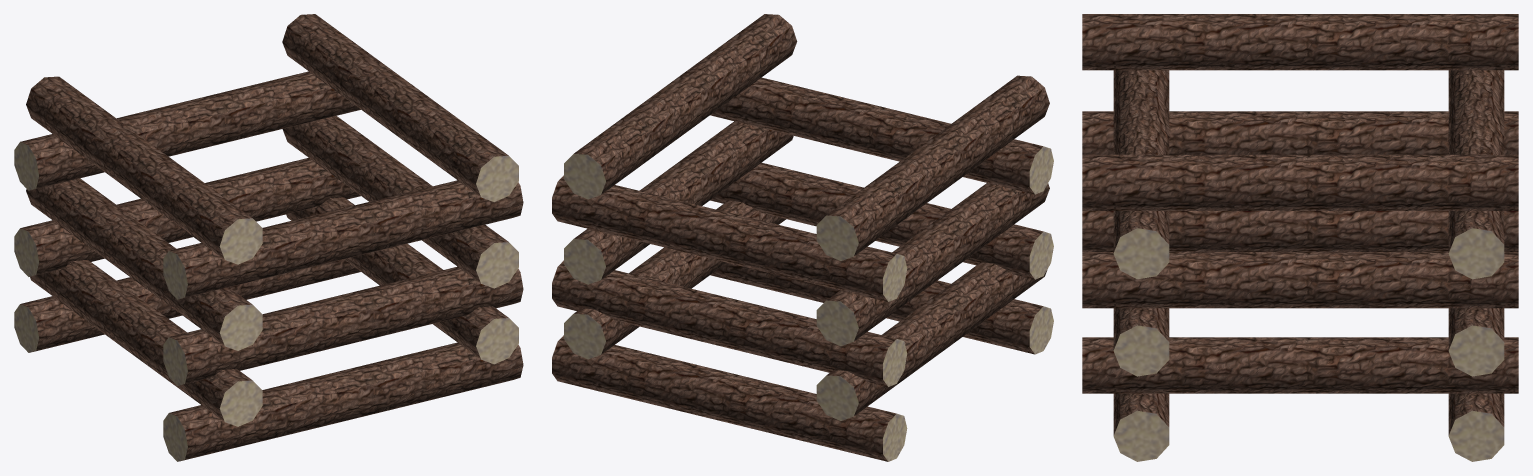
Rendered from campfire.FBX.
3 renders of one model, left to right at view 1: azimuth 30°, elevation 25°; view 2: azimuth 150°, elevation 25°; view 3: azimuth 270°, elevation 25°, orthographic. The views are drawn at different scales.
Visible parts, largest first — view 1: Cylinder009, Cylinder001, Cylinder005, Cylinder010, Cylinder012, Cylinder011, Cylinder008, Cylinder004, Cylinder007, Cylinder006, Cylinder003, Cylinder002; view 2: Cylinder003, Cylinder011, Cylinder007, Cylinder012, Cylinder010, Cylinder009, Cylinder008, Cylinder005, Cylinder004, Cylinder006, Cylinder001, Cylinder002; view 3: Cylinder010, Cylinder012, Cylinder006, Cylinder002, Cylinder008, Cylinder004, Cylinder009, Cylinder011, Cylinder003, Cylinder001, Cylinder005, Cylinder007.
Boxes of the visible parts, x1,y1,x2,y2 form: Cylinder009: [163, 180, 523, 299]; Cylinder001: [163, 342, 523, 461]; Cylinder005: [163, 266, 523, 385]; Cylinder010: [282, 14, 518, 201]; Cylinder012: [26, 76, 262, 264]; Cylinder011: [14, 71, 360, 190]; Cylinder008: [26, 178, 262, 350]; Cylinder004: [30, 259, 262, 426]; Cylinder007: [14, 157, 360, 276]; Cylinder006: [282, 116, 518, 288]; Cylinder003: [14, 259, 360, 352]; Cylinder002: [286, 197, 518, 364]; Cylinder003: [552, 335, 907, 461]; Cylinder011: [552, 175, 907, 301]; Cylinder007: [552, 260, 907, 386]; Cylinder012: [816, 75, 1049, 260]; Cylinder010: [564, 14, 797, 199]; Cylinder009: [710, 77, 1053, 194]; Cylinder008: [816, 183, 1049, 346]; Cylinder005: [710, 162, 1053, 279]; Cylinder004: [816, 262, 1047, 420]; Cylinder006: [564, 121, 793, 284]; Cylinder001: [710, 262, 1053, 354]; Cylinder002: [564, 200, 786, 359]; Cylinder010: [1082, 154, 1518, 210]; Cylinder012: [1082, 14, 1518, 70]; Cylinder006: [1082, 252, 1518, 308]; Cylinder002: [1082, 337, 1518, 393]; Cylinder008: [1082, 111, 1518, 154]; Cylinder004: [1082, 211, 1518, 251]; Cylinder009: [1113, 70, 1169, 279]; Cylinder011: [1448, 70, 1504, 279]; Cylinder003: [1448, 393, 1504, 461]; Cylinder001: [1113, 393, 1169, 461]; Cylinder005: [1113, 308, 1169, 376]; Cylinder007: [1448, 308, 1504, 376].
Bounding box in the file's own units: 50.22 × 36.01 × 50.22.
